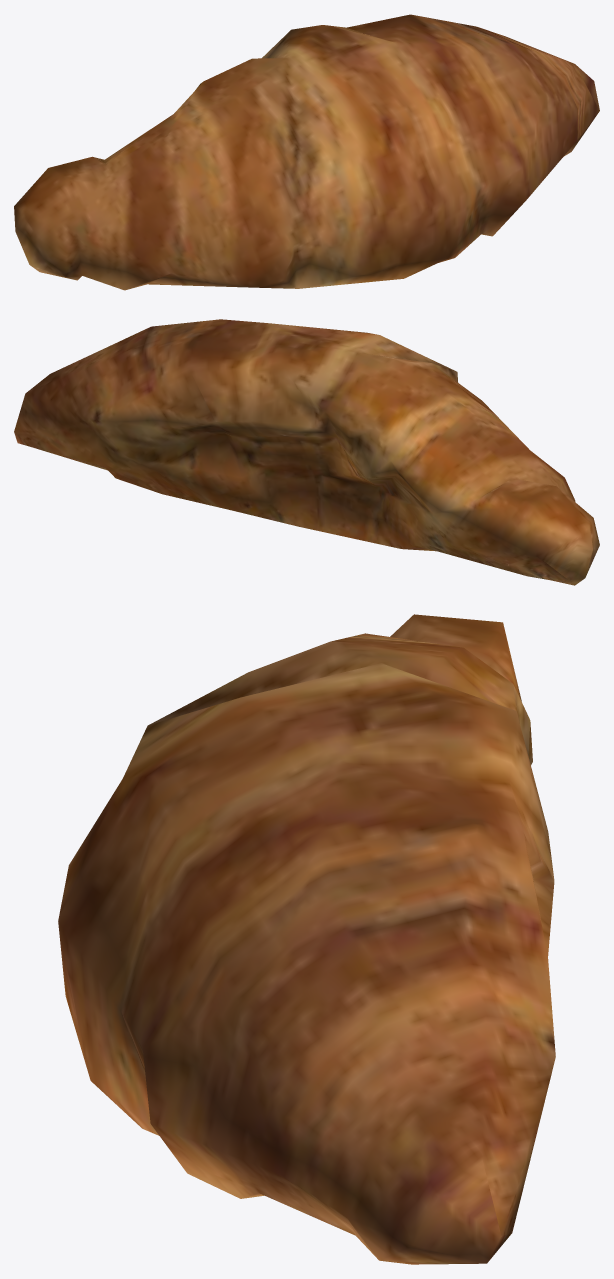
File: croissant.glb
3 renders of one model, top to bottom at view 1: azimuth 30°, elevation 25°; view 2: azimuth 150°, elevation 25°; view 3: azimuth 270°, elevation 25°, orthographic. The views are drawn at different scales.
Visible parts, largest first — view 1: croissant; view 2: croissant; view 3: croissant.
Part boxes in pixels (<box>): croissant: <box>14,14,599,290</box>; croissant: <box>14,319,599,585</box>; croissant: <box>58,614,555,1264</box>.
Size of the model in its own units: 0.1988 by 0.0617 by 0.075.
Materials: 1 (1 with a texture image).
